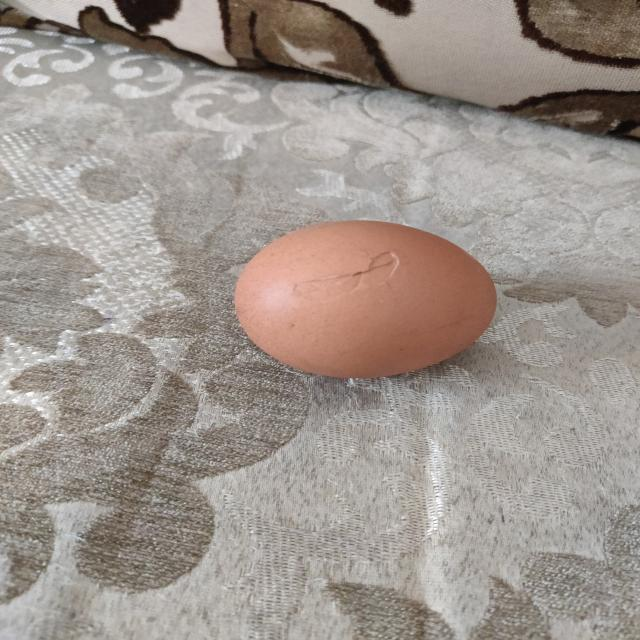egg: (233, 218, 498, 380)
